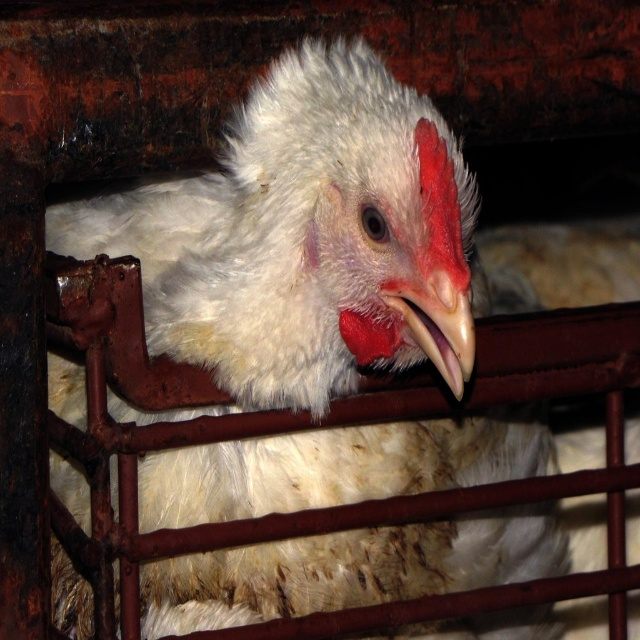Chicken: (356, 28, 569, 639)
